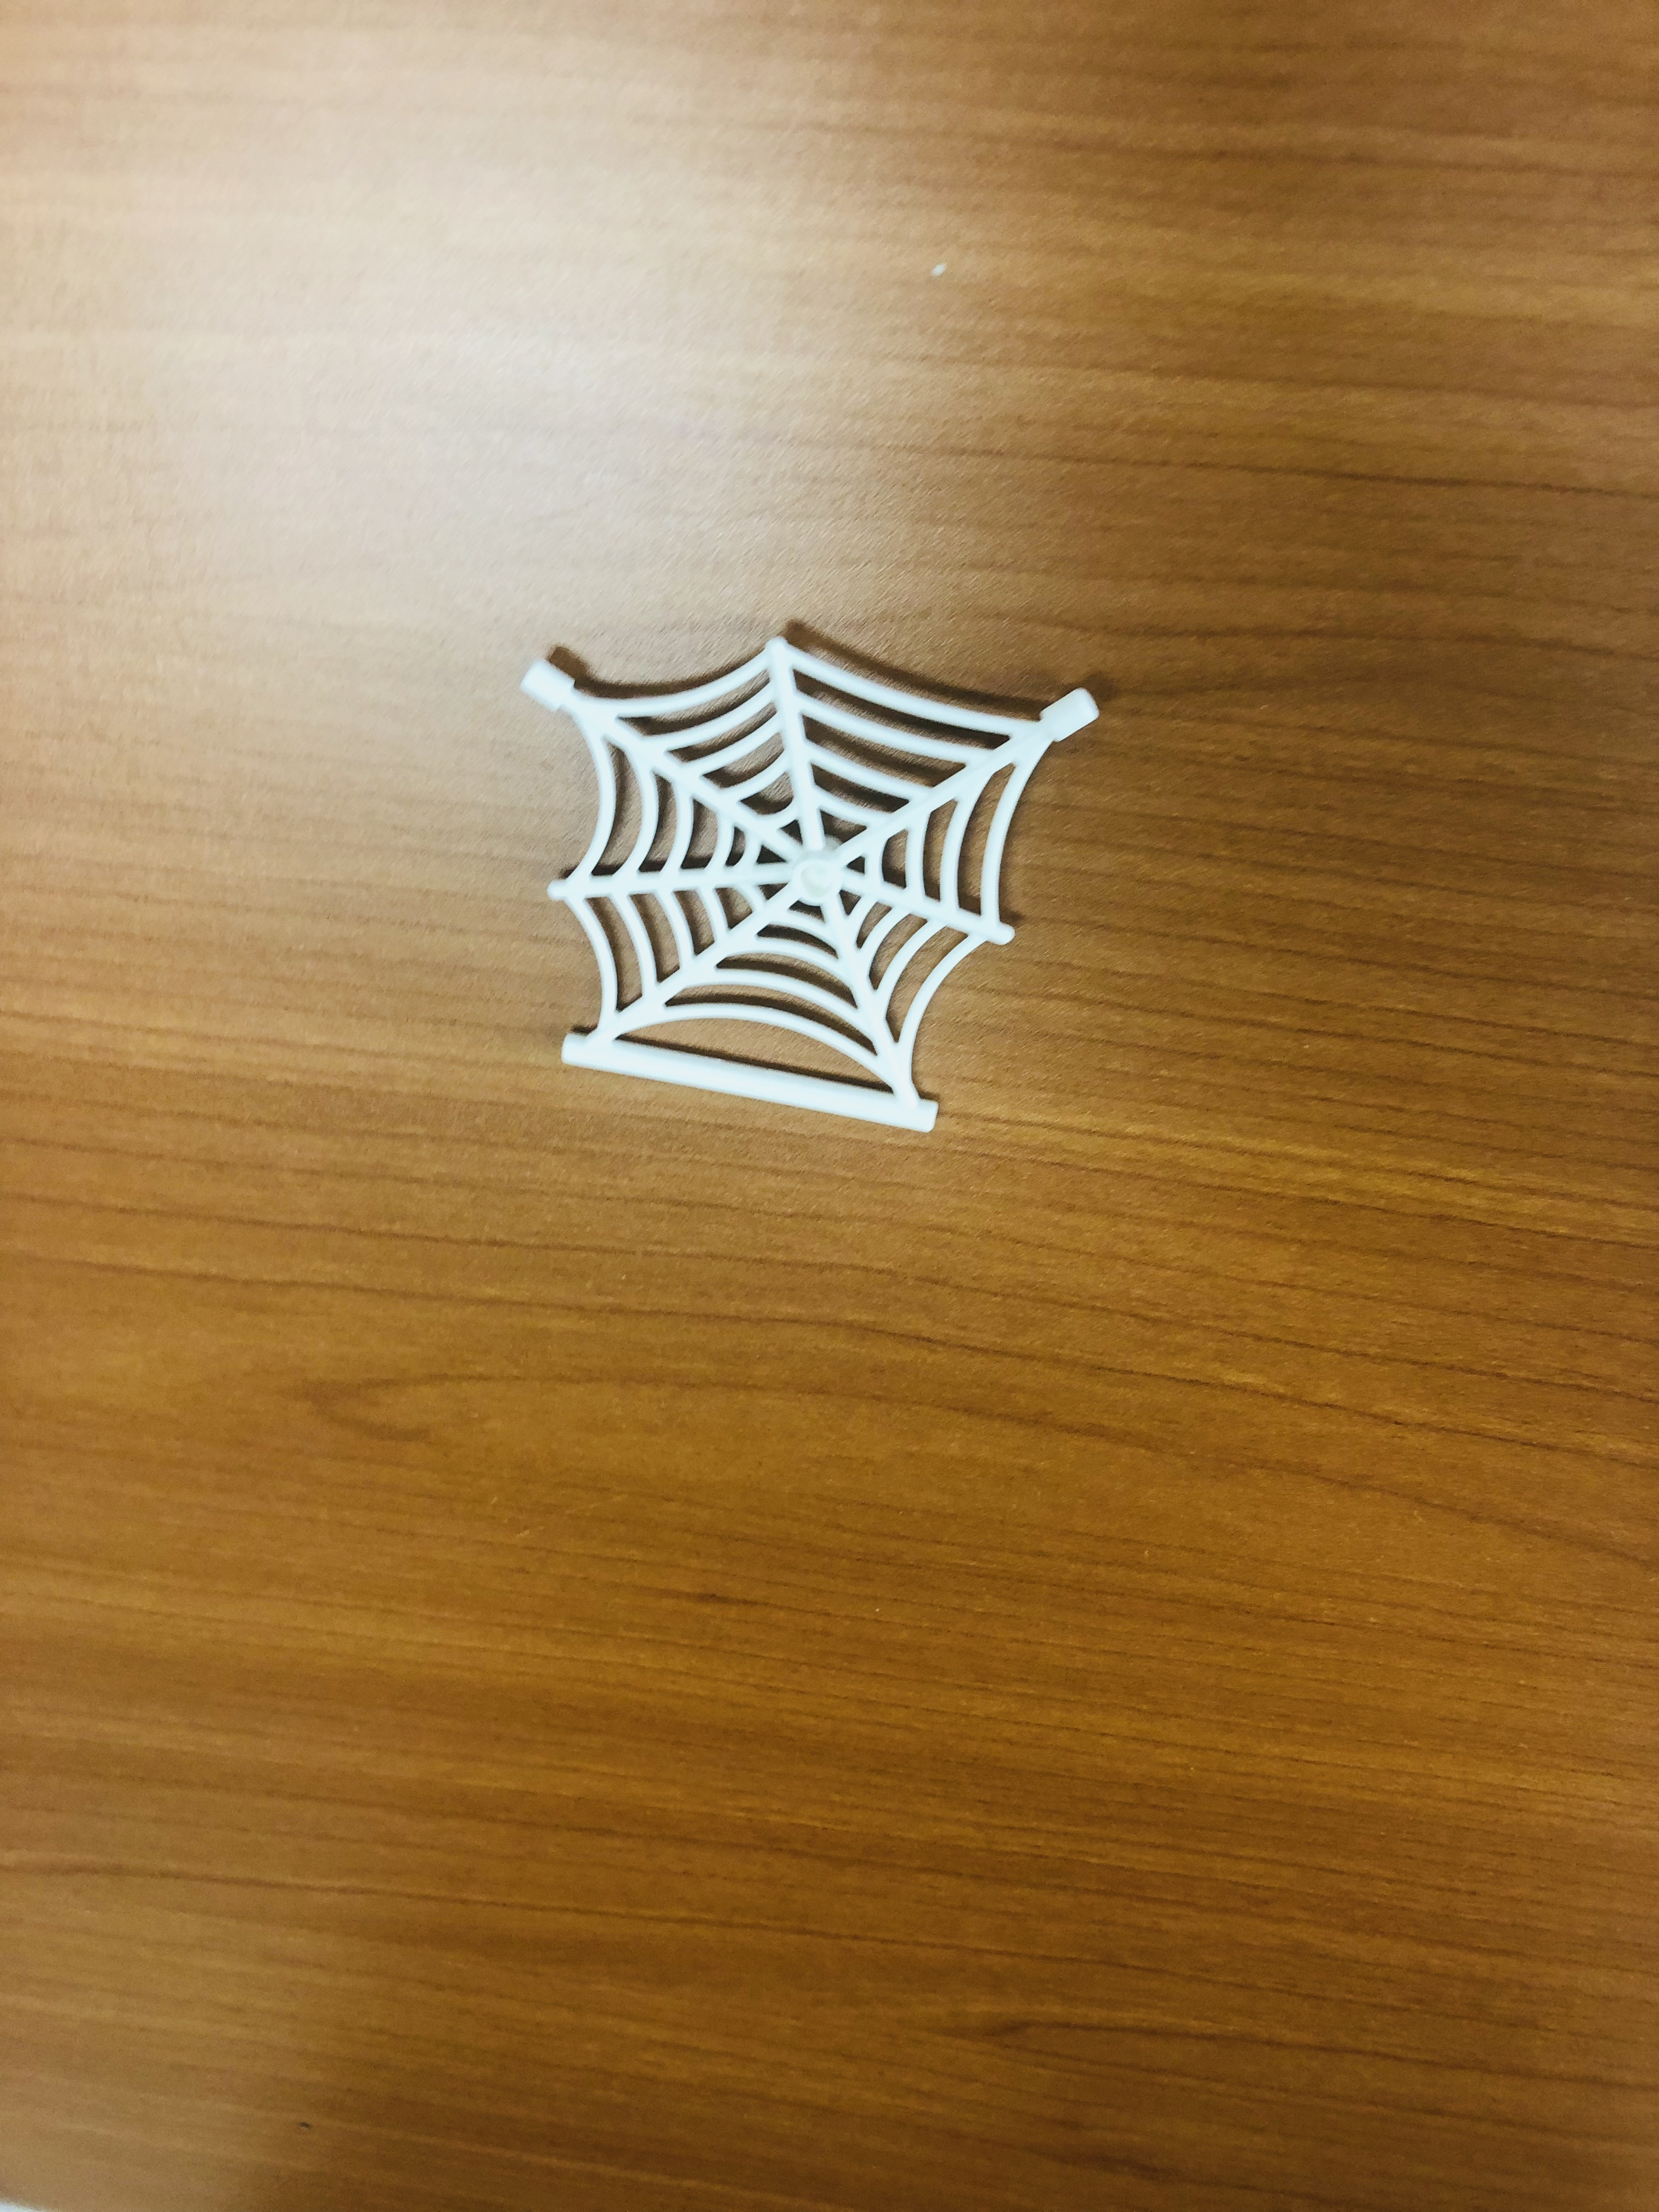web: (517, 619, 1106, 1139)
